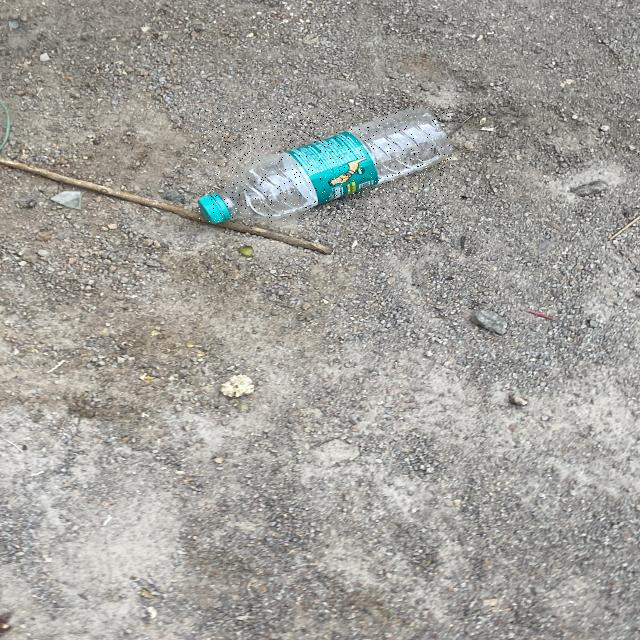plastic: (199, 108, 451, 222)
